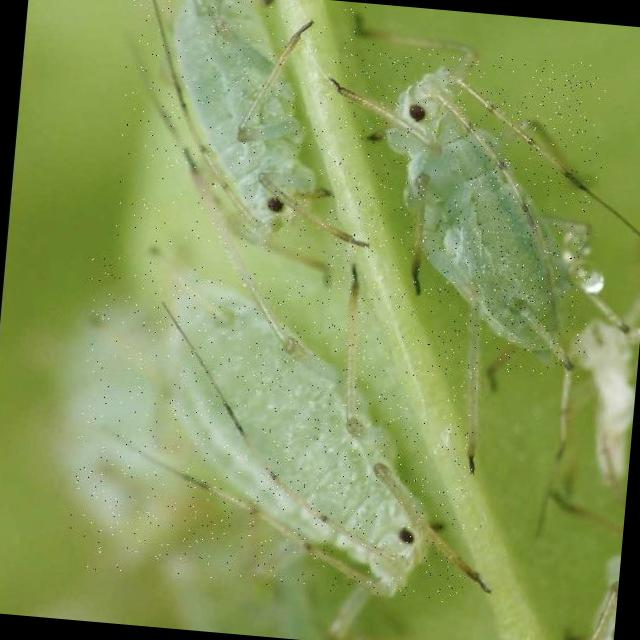aphid: (64, 254, 488, 604), (317, 41, 609, 378), (109, 0, 368, 259)
